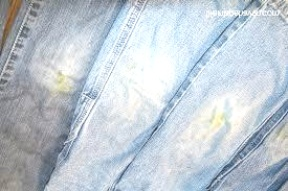earth: (54, 69, 70, 92), (209, 109, 227, 129)
